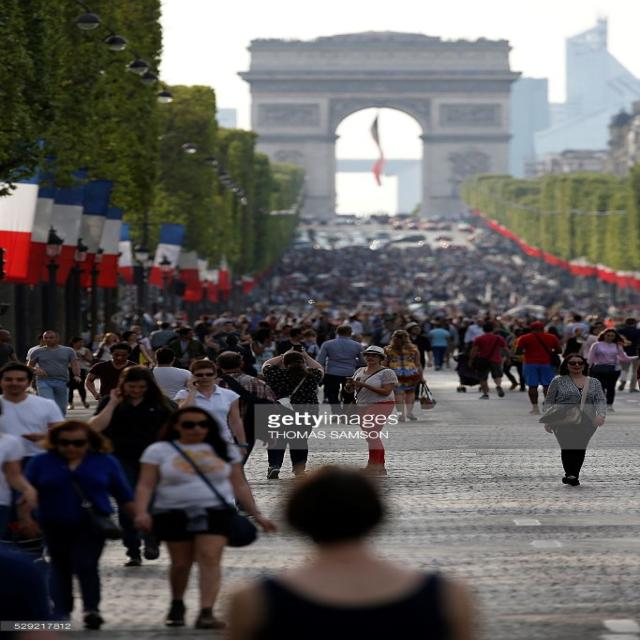body: (115, 212, 640, 329), (225, 467, 475, 640), (131, 405, 284, 633), (7, 418, 142, 626), (87, 366, 182, 566), (537, 353, 609, 487), (259, 343, 326, 480), (210, 351, 279, 468), (0, 361, 67, 473), (173, 359, 250, 456), (343, 344, 397, 476), (0, 524, 56, 630), (380, 327, 438, 422), (26, 329, 81, 419), (514, 320, 563, 414), (587, 326, 639, 414), (318, 324, 366, 417), (0, 410, 36, 524), (85, 340, 140, 404), (468, 322, 512, 400), (404, 321, 435, 401), (148, 347, 193, 401), (452, 324, 482, 392), (614, 317, 640, 394), (253, 328, 330, 353), (66, 335, 92, 409), (502, 323, 528, 392), (165, 329, 205, 371), (118, 330, 157, 369), (581, 322, 607, 378), (426, 322, 452, 372), (578, 326, 602, 376), (0, 328, 27, 371), (201, 328, 253, 350), (26, 332, 49, 374), (92, 332, 122, 362), (562, 328, 590, 358), (139, 329, 179, 344), (353, 328, 389, 342), (548, 329, 574, 336), (91, 332, 101, 350)
